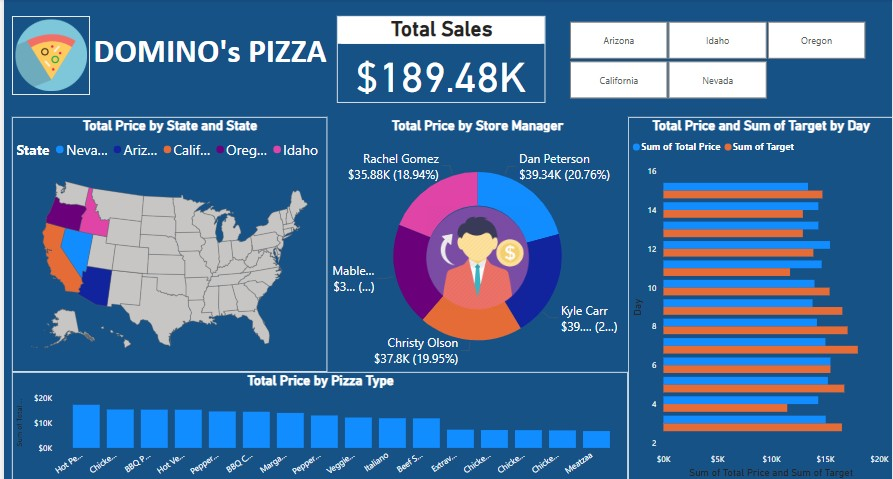

What the dashboard file says about the page in this screenshot:
{"tool":"powerbi","page":{"name":"Pizza Sales ","canvas":[1280,720],"ordinal":0},"visuals":[{"type":"image","box":[11.8,25.2,112.5,112.5],"z":0},{"type":"textbox","box":[123.8,40.3,355.7,82.1],"z":1000},{"type":"card","title":"Total Sales","fields":{"Values":["Sales.Total Price"]},"box":[479.5,24.5,299.5,125.3],"z":2000},{"type":"shapeMap","title":"Total Price by State and State","fields":{"Category":["Branch Data.State"],"Value":["Sales.Total Price"],"Series":["Branch Data.State"]},"box":[11.5,169.9,453.6,367.2],"z":3000},{"type":"donutChart","title":"Total Price by Store Manager","fields":{"Category":["Branch Data.Store Manager"],"Y":["Sales.Total Price"]},"box":[465.1,169.9,433.4,378.7],"z":3001},{"type":"image","box":[479.5,292.3,404.6,161.3],"z":3002},{"type":"slicer","fields":{"Values":["Branch Data.State"]},"box":[789.1,25.9,475.2,123.8],"z":3003},{"type":"clusteredBarChart","title":"Total Price and Sum of Target by Day","fields":{"Category":["Daily Target.Day.Variation.Date Hierarchy.Day"],"Y":["Sales.Total Price","Daily Target.Target"]},"box":[898.6,169.9,381.6,525.6],"z":3004},{"type":"columnChart","title":"Total Price by Pizza Type","fields":{"Category":["Sales.Pizza Type"],"Y":["Sales.Total Price"]},"box":[11.5,537.1,887,161.3],"z":3005}]}

Visuals, with their boxes on the page's 1280x720 design canvas (x1, y1, x2, y2). These are canvas units, not pixel positions in the 893x479 screenshot, which may show the page scaled, cropped or inside an application window:
image: left=12, top=25, right=124, bottom=138
textbox: left=124, top=40, right=480, bottom=122
"Total Sales" card: left=480, top=24, right=779, bottom=150
"Total Price by State and State" shapeMap: left=12, top=170, right=465, bottom=537
"Total Price by Store Manager" donutChart: left=465, top=170, right=898, bottom=549
image: left=480, top=292, right=884, bottom=454
slicer - Branch Data.State: left=789, top=26, right=1264, bottom=150
"Total Price and Sum of Target by Day" clusteredBarChart: left=899, top=170, right=1280, bottom=696
"Total Price by Pizza Type" columnChart: left=12, top=537, right=898, bottom=698
